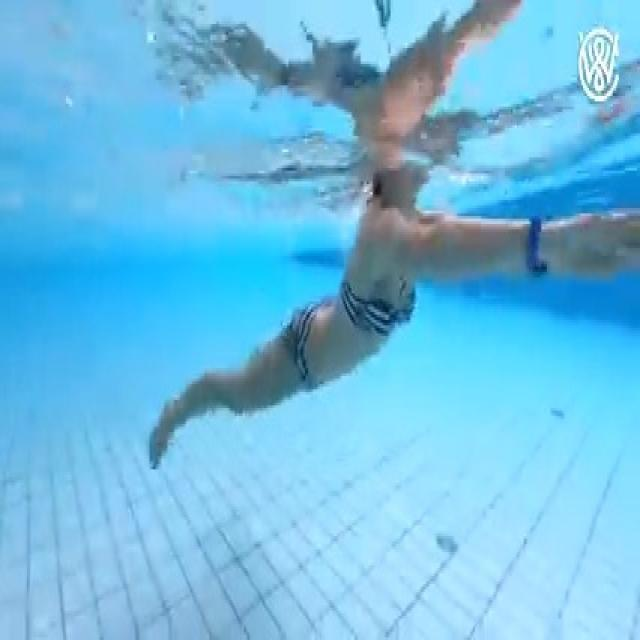Swimming: (146, 174, 640, 466)
